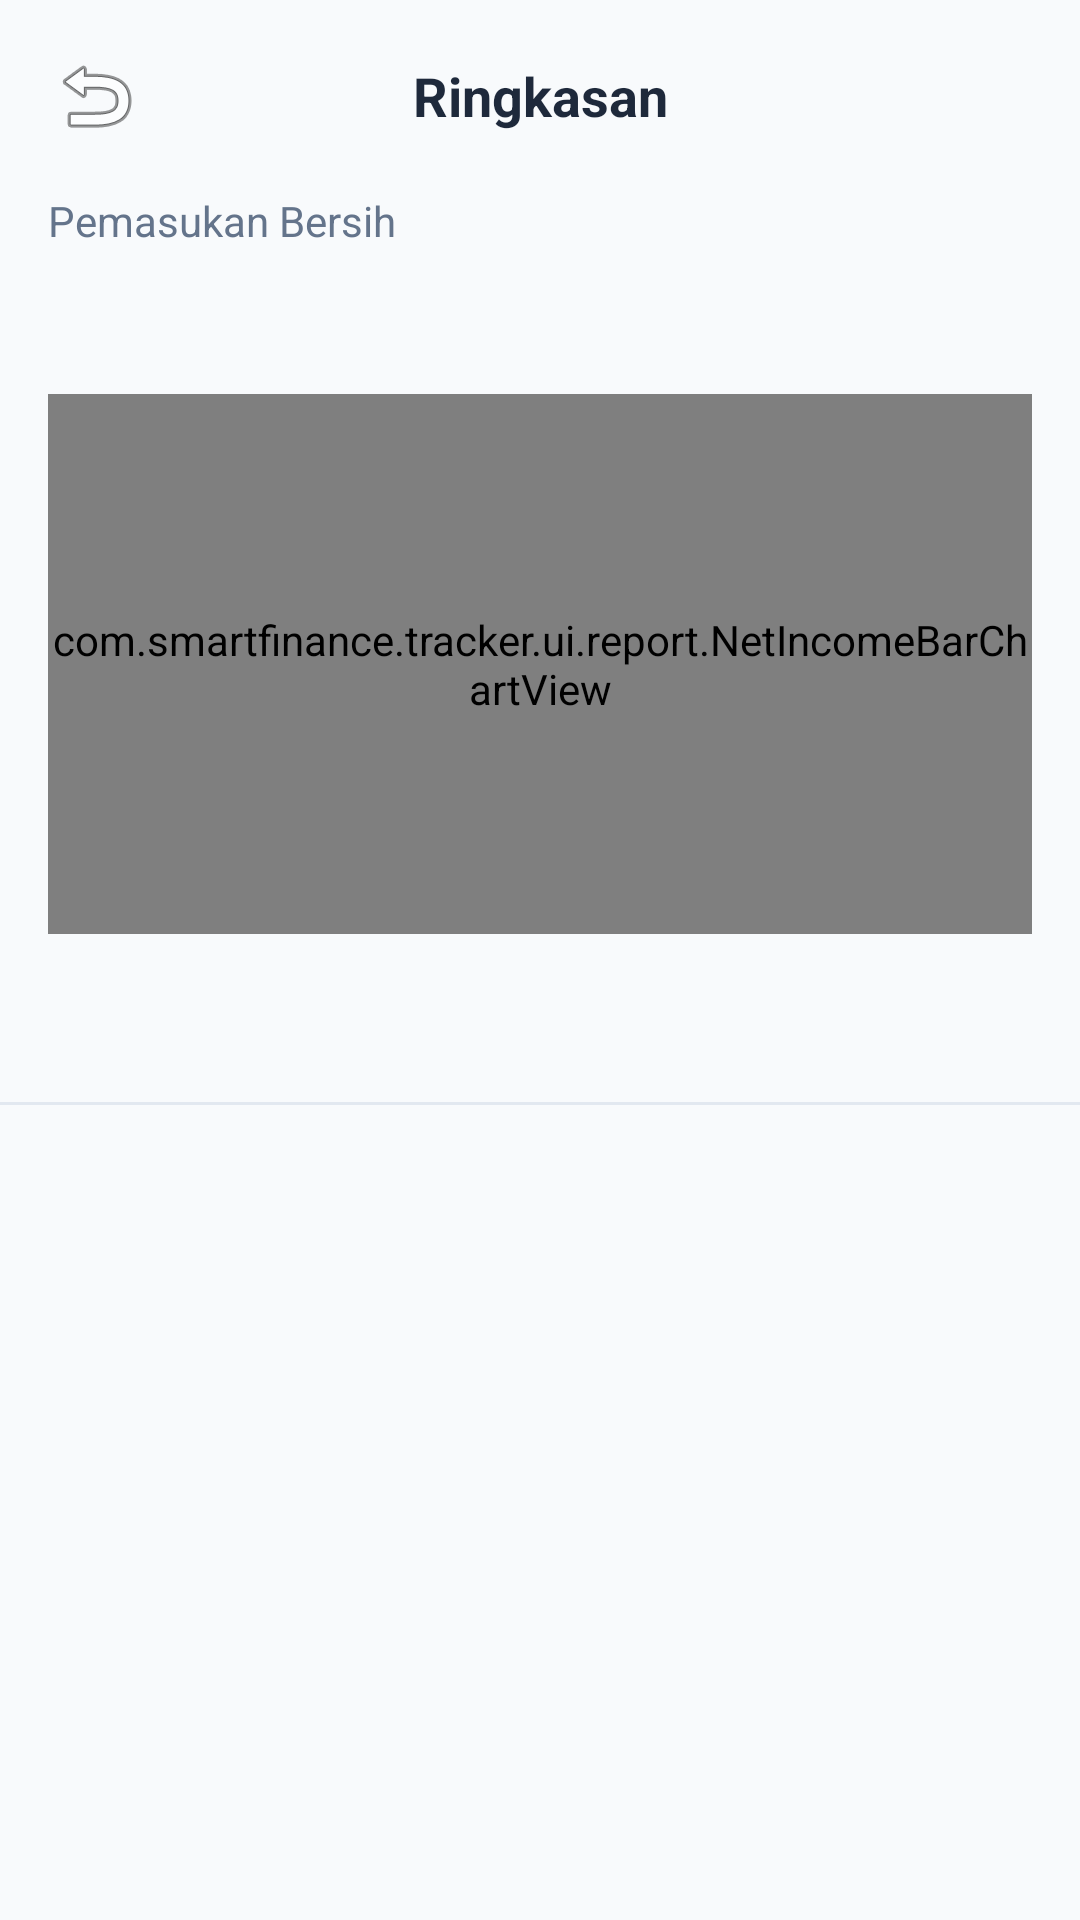

Where icons sit on this 1080 × 1920 app screen, as (x1, y1, x2, y2):
revert: (63, 65, 132, 128)
